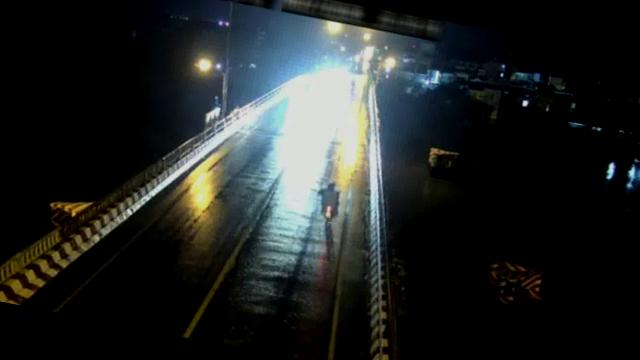Bike: (312, 176, 345, 224)
